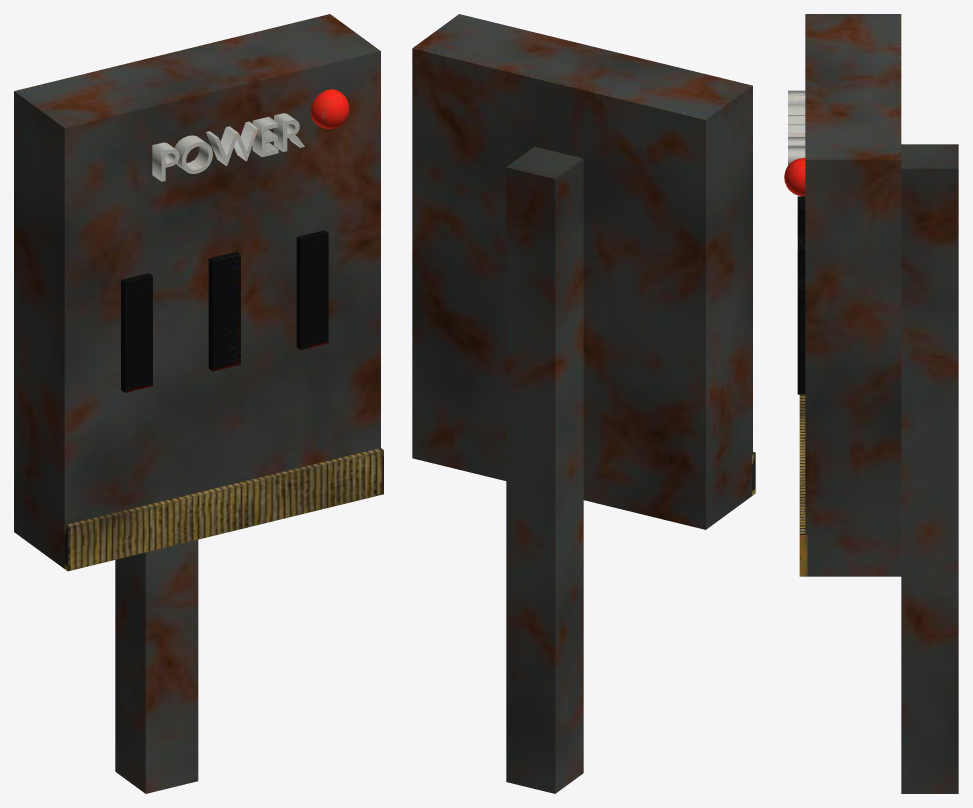
The model's file is fusebox.glb.
The picture shows the model from 3 angles, left to right: view 1: azimuth 30°, elevation 25°; view 2: azimuth 150°, elevation 25°; view 3: azimuth 270°, elevation 25°; orthographic projection. The views are drawn at different scales.
Parts seen in each view (by area): view 1: Main; view 2: Main; view 3: Main.
Boxes of the visible parts, x1,y1,x2,y2 form: Main: (14, 14, 383, 793); Main: (412, 14, 755, 793); Main: (784, 14, 958, 793).
Size of the model in its own units: 0.9 by 2 by 0.4549.
Materials: 1 (1 with a texture image).
